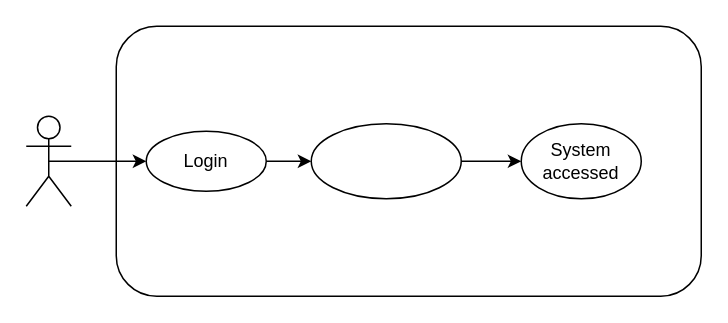
This 728x323 diagram has some shape labels left out. Here are the shapes that lost their labels. From the top down, the centre of each, then its label:
(x=48, y=160): User
(x=385, y=160): Verify
